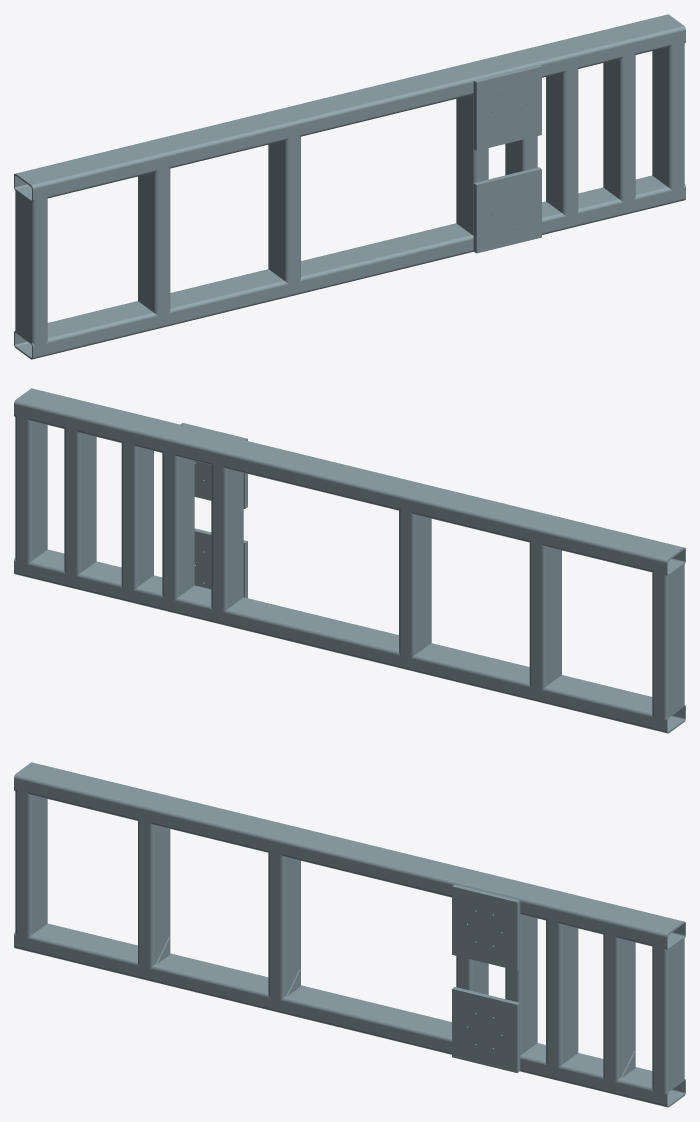
Rendered from frame_R06.glb.
The picture shows the model from 3 angles, top to bottom: view 1: azimuth 30°, elevation 25°; view 2: azimuth 150°, elevation 25°; view 3: azimuth 330°, elevation 25°; orthographic projection.
Visible parts, largest first — view 1: main_rail_left, main_rail_right, arm_deck_left, arm_deck_right, crossmember_01, crossmember_02, crossmember_06, crossmember_08, crossmember_07, crossmember_03, crossmember_04, crossmember_05; view 2: main_rail_left, main_rail_right, crossmember_01, crossmember_02, crossmember_06, crossmember_08, crossmember_04, crossmember_07, crossmember_05, crossmember_03, arm_deck_right, arm_deck_left; view 3: main_rail_left, main_rail_right, arm_deck_left, arm_deck_right, crossmember_08, crossmember_01, crossmember_06, crossmember_03, crossmember_07, crossmember_02, crossmember_05, crossmember_04.
Boxes of the visible parts, bbox=[...] form: main_rail_left: bbox=[14, 14, 685, 202]; main_rail_right: bbox=[14, 175, 685, 359]; arm_deck_left: bbox=[473, 64, 541, 150]; arm_deck_right: bbox=[473, 167, 541, 253]; crossmember_01: bbox=[15, 191, 47, 346]; crossmember_02: bbox=[138, 167, 170, 316]; crossmember_06: bbox=[546, 67, 578, 216]; crossmember_08: bbox=[652, 41, 684, 190]; crossmember_07: bbox=[603, 53, 635, 202]; crossmember_03: bbox=[268, 135, 300, 284]; crossmember_04: bbox=[456, 94, 488, 235]; crossmember_05: bbox=[505, 136, 537, 175]; main_rail_left: bbox=[14, 388, 685, 576]; main_rail_right: bbox=[14, 549, 685, 733]; crossmember_01: bbox=[652, 565, 684, 720]; crossmember_02: bbox=[529, 541, 561, 690]; crossmember_06: bbox=[121, 441, 153, 590]; crossmember_08: bbox=[15, 415, 47, 564]; crossmember_04: bbox=[211, 463, 243, 612]; crossmember_07: bbox=[64, 427, 96, 576]; crossmember_05: bbox=[162, 451, 194, 600]; crossmember_03: bbox=[399, 509, 431, 658]; arm_deck_right: bbox=[194, 528, 247, 598]; arm_deck_left: bbox=[180, 423, 247, 508]; main_rail_left: bbox=[14, 762, 685, 950]; main_rail_right: bbox=[14, 923, 685, 1107]; arm_deck_left: bbox=[452, 884, 520, 970]; arm_deck_right: bbox=[452, 987, 520, 1072]; crossmember_08: bbox=[652, 939, 684, 1094]; crossmember_01: bbox=[15, 789, 47, 938]; crossmember_06: bbox=[546, 919, 578, 1068]; crossmember_03: bbox=[268, 851, 300, 1000]; crossmember_07: bbox=[603, 933, 635, 1082]; crossmember_02: bbox=[138, 819, 170, 968]; crossmember_05: bbox=[505, 914, 537, 1055]; crossmember_04: bbox=[456, 956, 488, 994].
Size of the model in its own units: 4 by 1.02 by 0.23.
